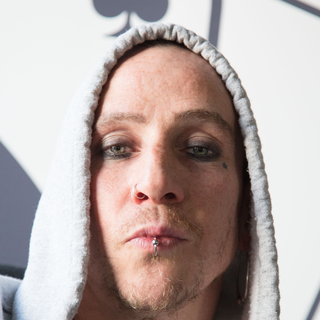eye: (177, 141, 223, 166), (98, 138, 136, 164)
